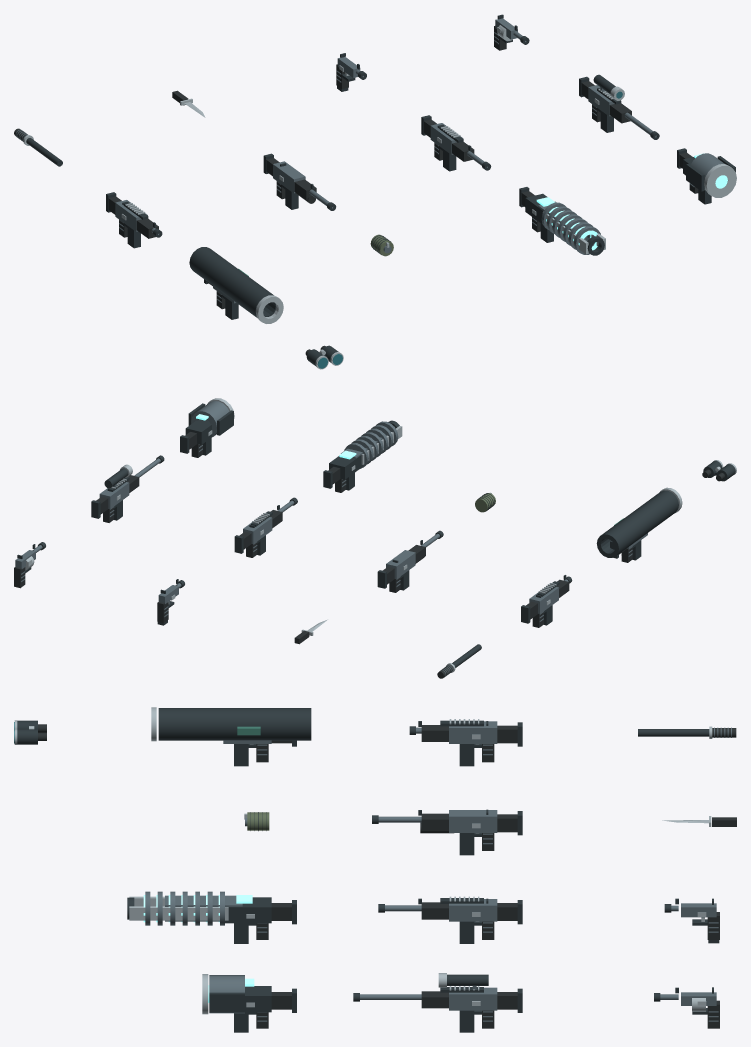
The model's file is dc018-equipment.glb.
3 views of the same model, one above another, from view 1: azimuth 30°, elevation 25°; view 2: azimuth 150°, elevation 25°; view 3: azimuth 270°, elevation 25° (orthographic). The views are drawn at different scales.
Visible parts, largest first — view 1: launcher_part4, gauss_part4, emp_part2, gauss_part0, shotgun_part0, emp_part0, shotgun_part1, sniper_part0, sniper_part1; view 2: launcher_part4, gauss_part4, emp_part0, gauss_part0, shotgun_part0, sniper_part0, sniper_part3, emp_part4, rifle_part0, shotgun_part1; view 3: launcher_part4, gauss_part4, emp_part0, shotgun_part0, sniper_part0, gauss_part2, gauss_part0, shotgun_part1, rifle_part0, sniper_part1, smg_part1, rifle_part1 (+10 smaller).
Part boxes in pixels (box(x1,y1,x2,y2)): launcher_part4: box(189, 247, 276, 317); gauss_part4: box(538, 201, 600, 254); emp_part2: box(704, 164, 736, 197); gauss_part0: box(519, 187, 604, 255); shotgun_part0: box(273, 161, 333, 208); emp_part0: box(677, 148, 735, 191); shotgun_part1: box(266, 158, 316, 203); sniper_part0: box(588, 85, 656, 137); sniper_part1: box(581, 81, 631, 123); launcher_part4: box(596, 490, 678, 557); gauss_part4: box(341, 421, 398, 468); emp_part0: box(180, 403, 233, 453); gauss_part0: box(323, 420, 399, 488); shotgun_part0: box(386, 533, 439, 578); sniper_part0: box(99, 458, 160, 508); sniper_part3: box(91, 455, 164, 518); emp_part4: box(191, 401, 229, 437); rifle_part0: box(243, 500, 294, 544); shotgun_part1: box(383, 545, 425, 592); launcher_part4: box(158, 708, 311, 740); gauss_part4: box(145, 891, 242, 925); emp_part0: box(209, 975, 296, 1014); shotgun_part0: box(378, 810, 497, 832); sniper_part0: box(360, 985, 497, 1010); gauss_part2: box(129, 896, 254, 920); gauss_part0: box(127, 897, 296, 925); shotgun_part1: box(420, 813, 517, 850); rifle_part0: box(385, 899, 497, 921); sniper_part1: box(421, 991, 517, 1028); smg_part1: box(421, 725, 517, 762); rifle_part1: box(421, 902, 517, 939).
Bounding box in the file's own units: 4.31 × 0.405 × 4.65.
